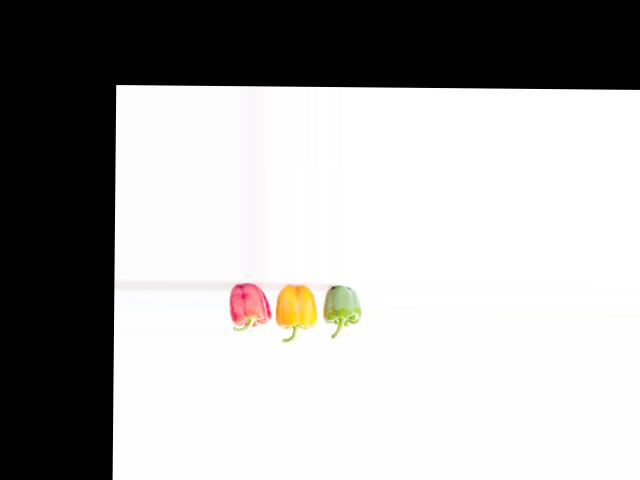bell_pepper: (226, 284, 272, 342)
